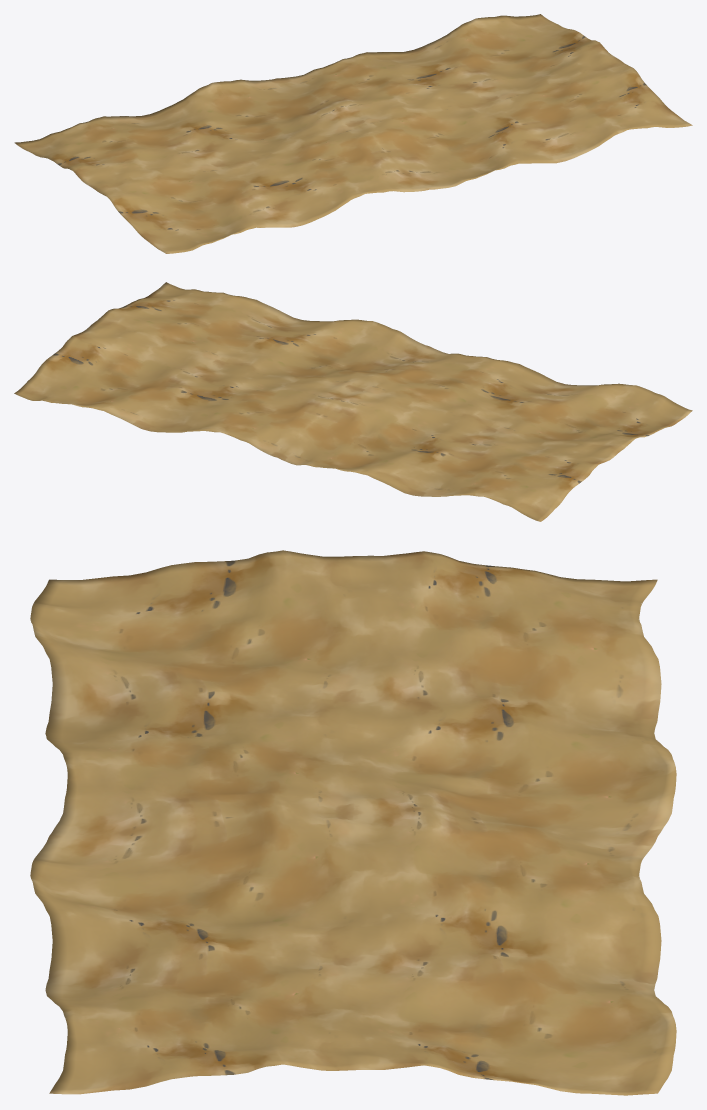
File: Terrain.fbx
3 views of the same model, one above another, from view 1: azimuth 30°, elevation 25°; view 2: azimuth 150°, elevation 25°; view 3: azimuth 270°, elevation 25° (orthographic). The views are drawn at different scales.
Visible parts, largest first — view 1: Terrain; view 2: Terrain; view 3: Terrain.
Boxes of the visible parts, left/top/right/bottom form: Terrain: left=14, top=14, right=692, bottom=253; Terrain: left=14, top=282, right=692, bottom=521; Terrain: left=30, top=550, right=676, bottom=1095.
Size of the model in its own units: 7277 by 248 by 3822.
